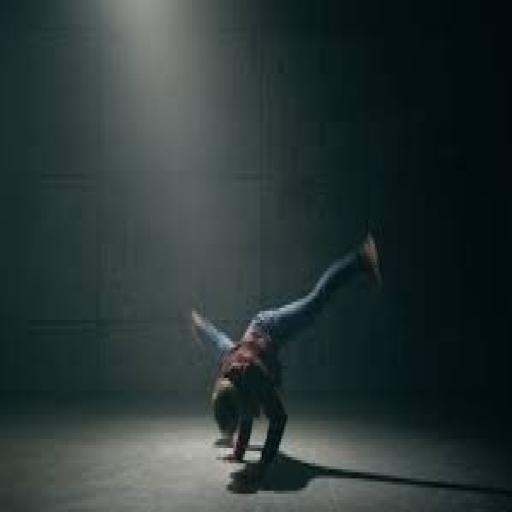dancing: (187, 226, 385, 494)
